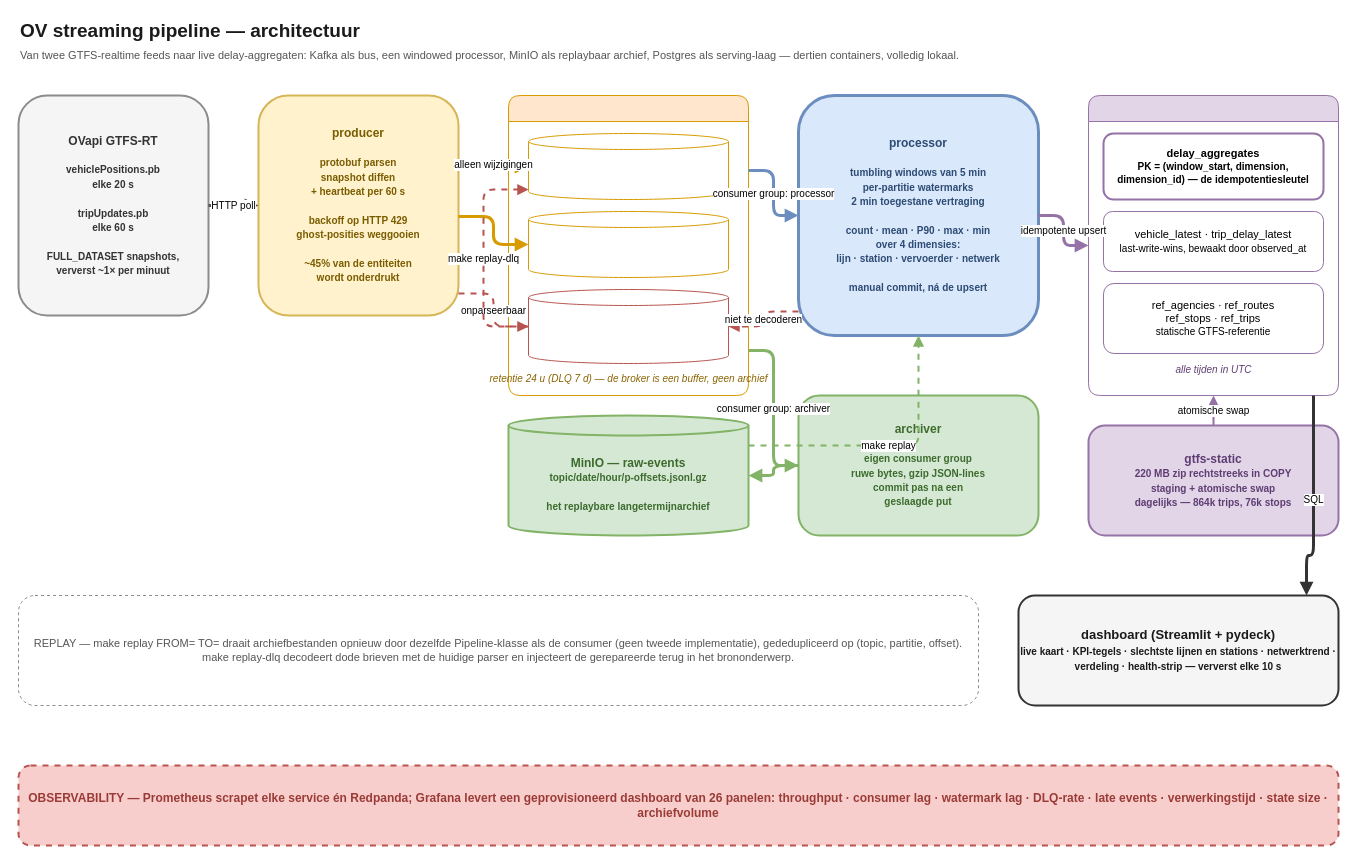
Image size: 1356x863. Some labels were removed from this diagram. The box of each missing label's shape, as (x1, y1, x2, y2) in pixels:
arrival_predictions 6 partities · key = trip_id: (528, 210, 728, 278)
dlq.vehicle_positions dlq.arrival_predictions originele bytes + error-headers: (528, 288, 728, 364)
POSTGRES: (1088, 94, 1338, 396)
REDPANDA (Kafka-API): (508, 94, 748, 396)
vehicle_positions 6 partities · key = vehicle_id: (528, 132, 728, 200)
